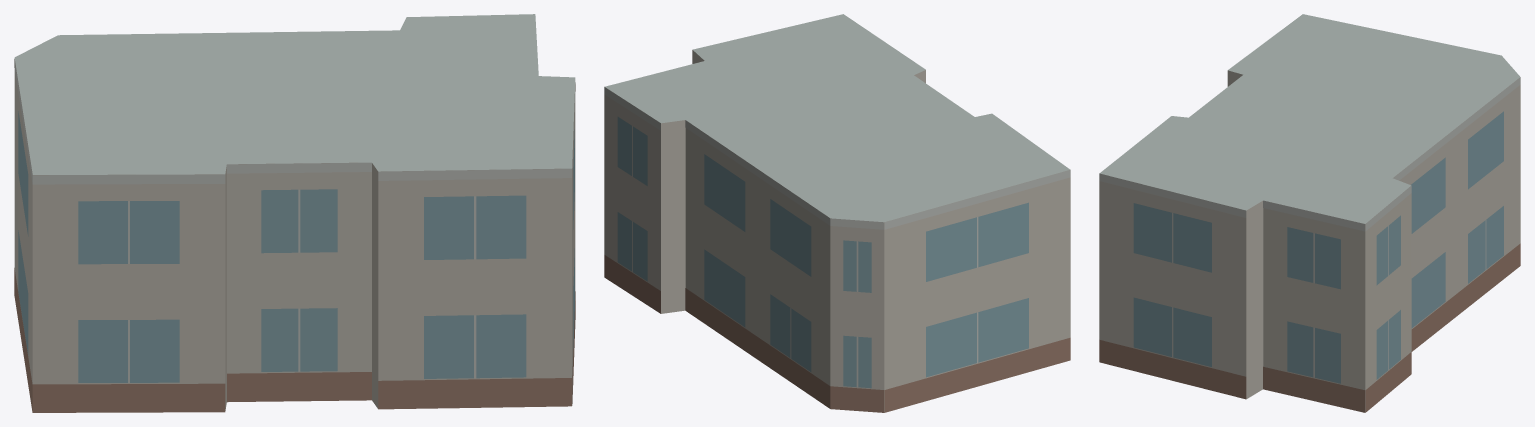
File: survey-upis-32916637.glb
3 views of the same model, side by side, from view 1: azimuth 30°, elevation 25°; view 2: azimuth 150°, elevation 25°; view 3: azimuth 270°, elevation 25° (orthographic). The views are drawn at different scales.
Parts seen in each view (by area): view 1: survey-upis-32916637.tmp; view 2: survey-upis-32916637.tmp; view 3: survey-upis-32916637.tmp.
Boxes of the visible parts, left/top/right/bottom form: survey-upis-32916637.tmp: left=14, top=14, right=575, bottom=412; survey-upis-32916637.tmp: left=604, top=14, right=1070, bottom=412; survey-upis-32916637.tmp: left=1099, top=14, right=1520, bottom=412.
Size of the model in its own units: 14.56 by 6.1 by 12.34.
